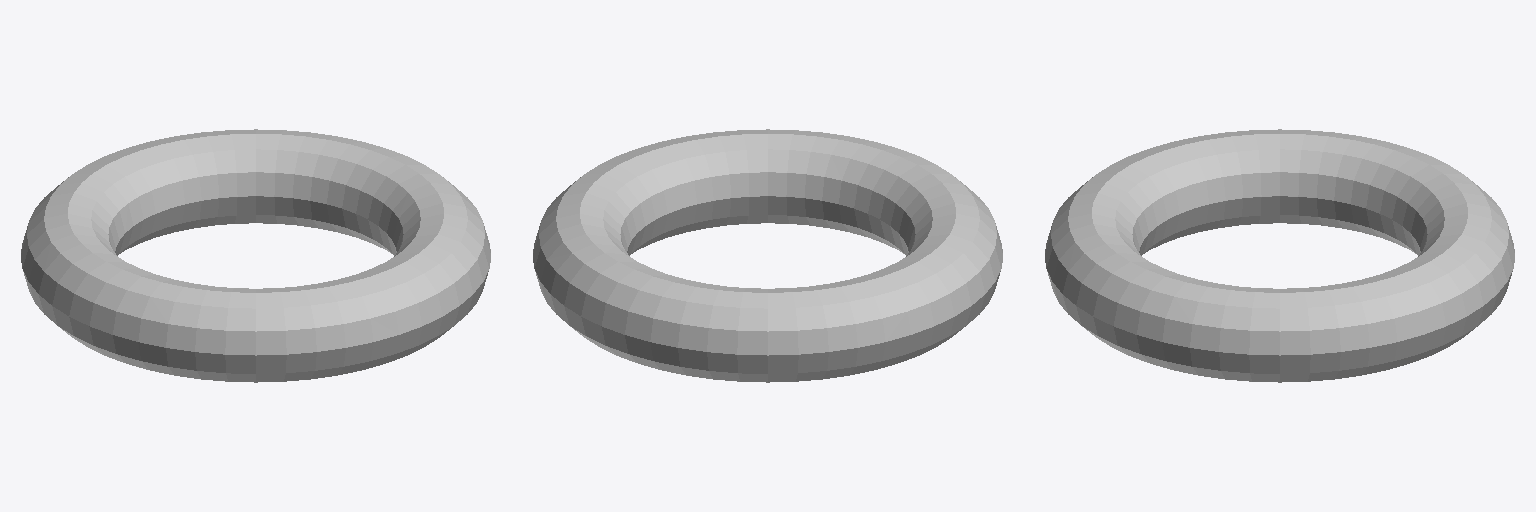
File: mCircle.obj
The picture shows the model from 3 angles: view 1: azimuth 30°, elevation 25°; view 2: azimuth 150°, elevation 25°; view 3: azimuth 270°, elevation 25°; orthographic projection.
Bounding box in the file's own units: 0.0291 × 0.0058 × 0.0291.